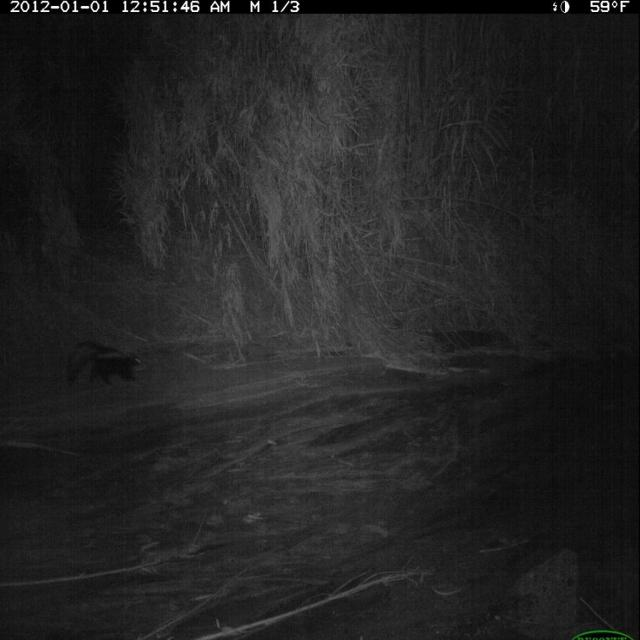skunk: (55, 332, 189, 436)
